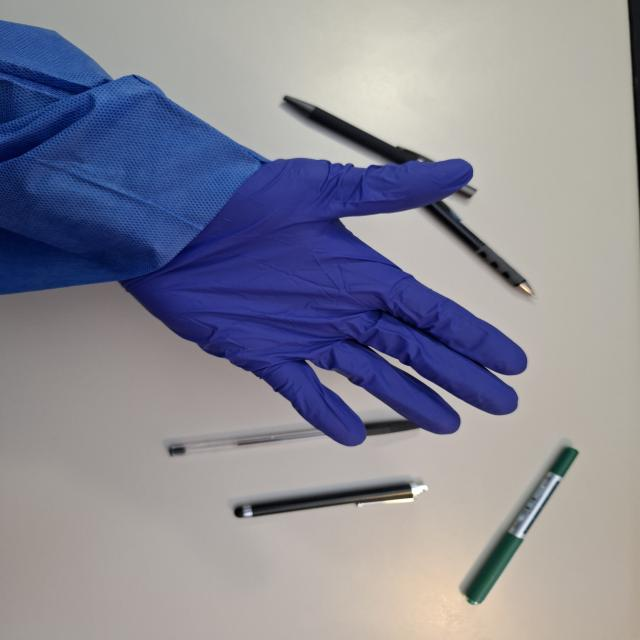glove_on: (116, 156, 530, 448)
